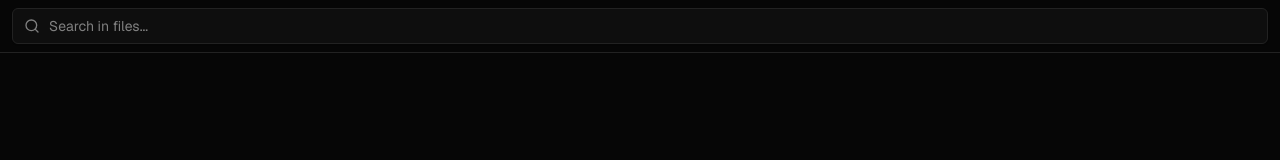
ContentSearch › Search results › should clear results when query is empty
Later steps or results of the test are not shown.
Type "import" into the field with placeholder "Search in files..." at (640, 26), box x1=12 y1=8 x2=1268 y2=44
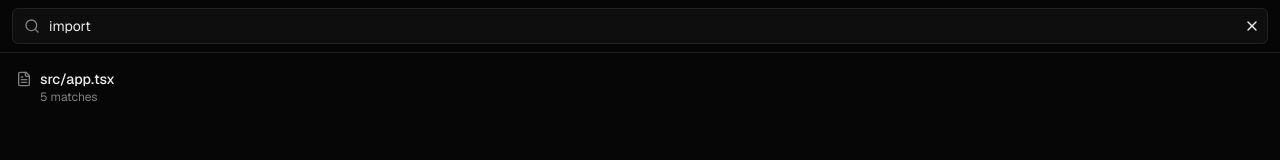
Check: the text "src/app.tsx" is shown, box x1=40 y1=70 x2=115 y2=88
